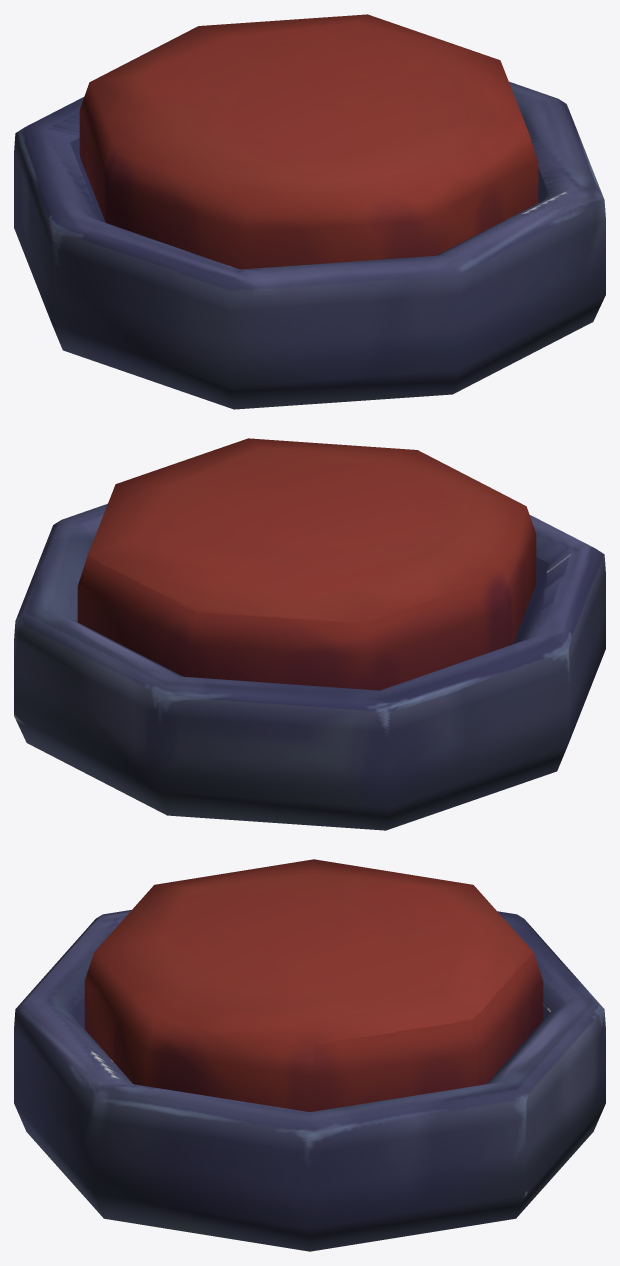
The model's file is Boton.fbx.
3 views of the same model, one above another, from view 1: azimuth 30°, elevation 25°; view 2: azimuth 150°, elevation 25°; view 3: azimuth 270°, elevation 25° (orthographic).
Parts seen in each view (by area): view 1: Cube.001, Cube; view 2: Cube, Cube.001; view 3: Cube, Cube.001.
Boxes of the visible parts, <box> form: Cube.001: <box>79,14,538,269</box>; Cube: <box>14,81,605,409</box>; Cube: <box>14,503,605,830</box>; Cube.001: <box>77,438,536,690</box>; Cube: <box>14,910,605,1251</box>; Cube.001: <box>84,859,543,1111</box>.
Size of the model in its own units: 270 by 109 by 270.
1 material, 1 textured.
